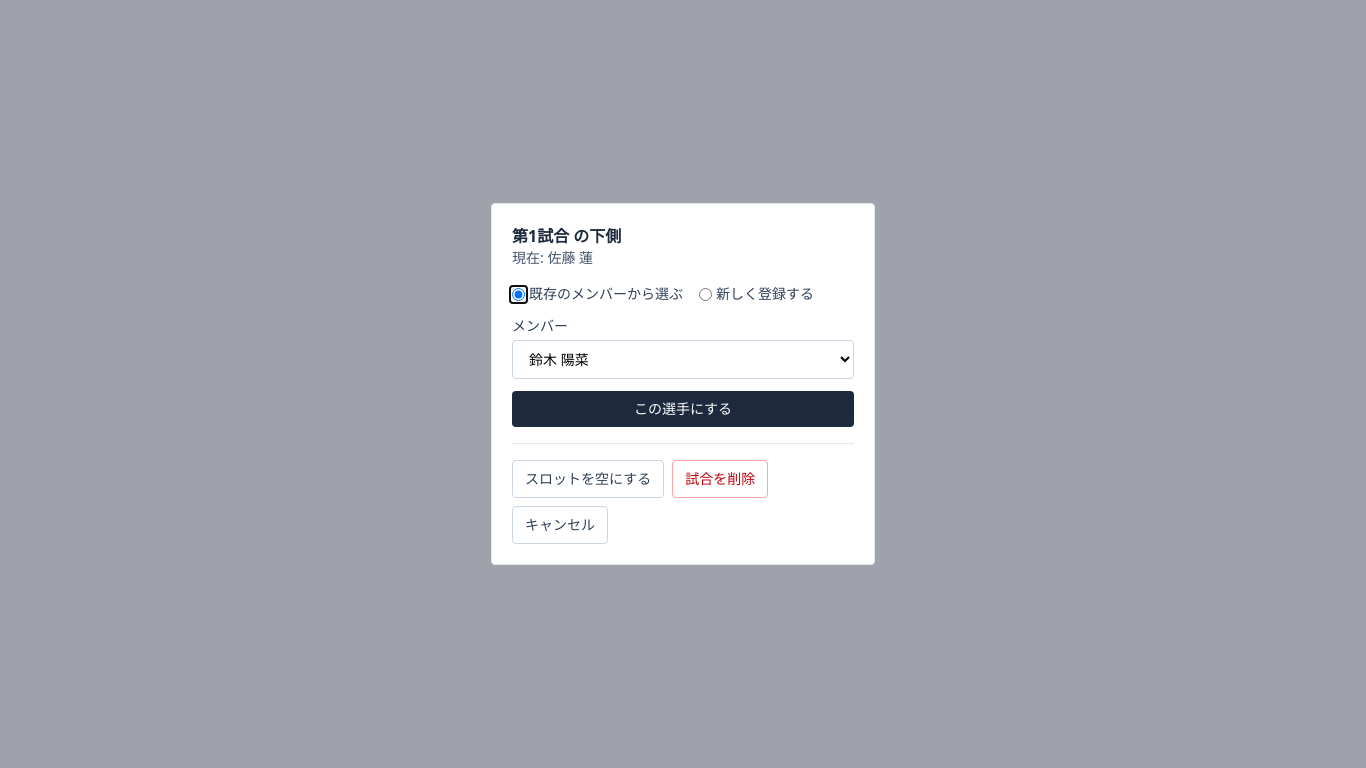
Test: SlotEditDialog › 失敗したら閉じずにエラーを出す
This screenshot has width=1366, height=768.
Click the button "この選手にする".
click(683, 409)  # box [512,391,854,427]
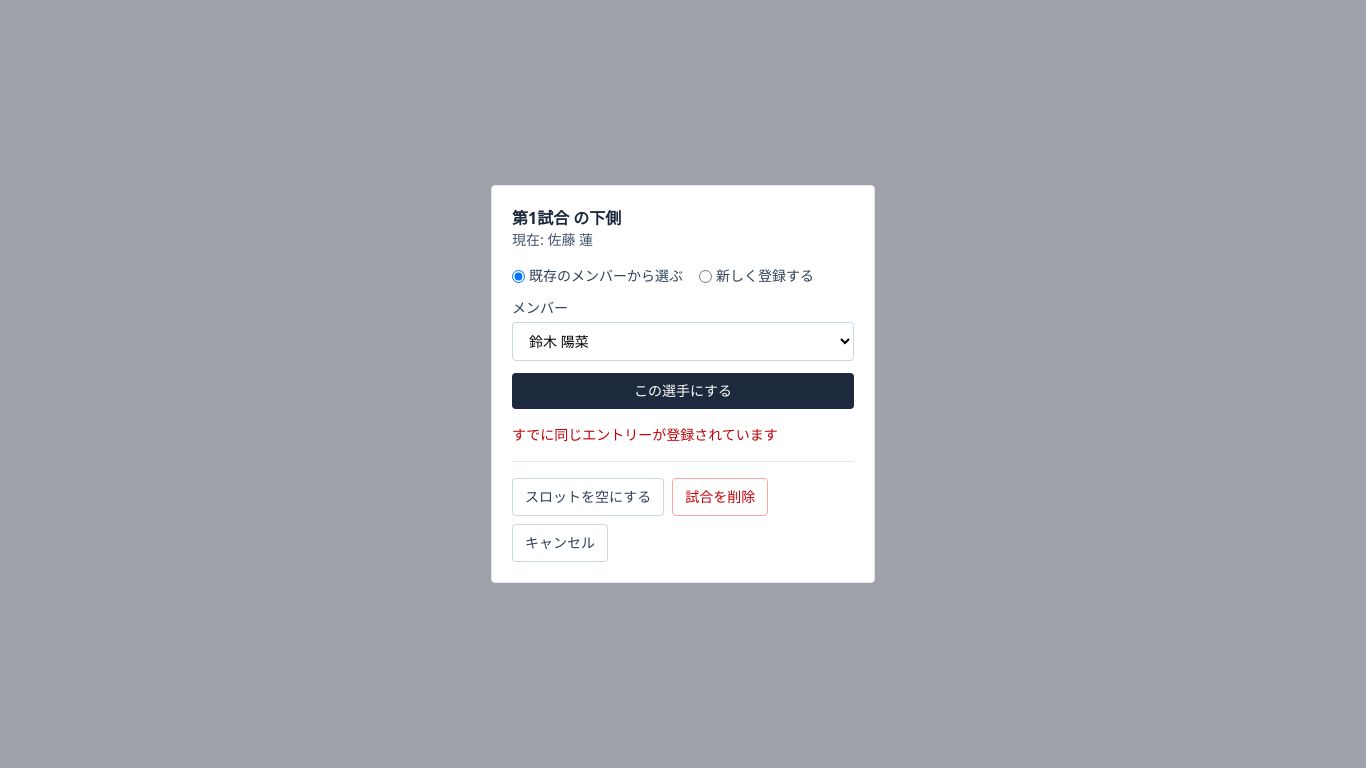
Now the message reads "すでに同じエントリーが登録されています", box [512,425,778,444]
